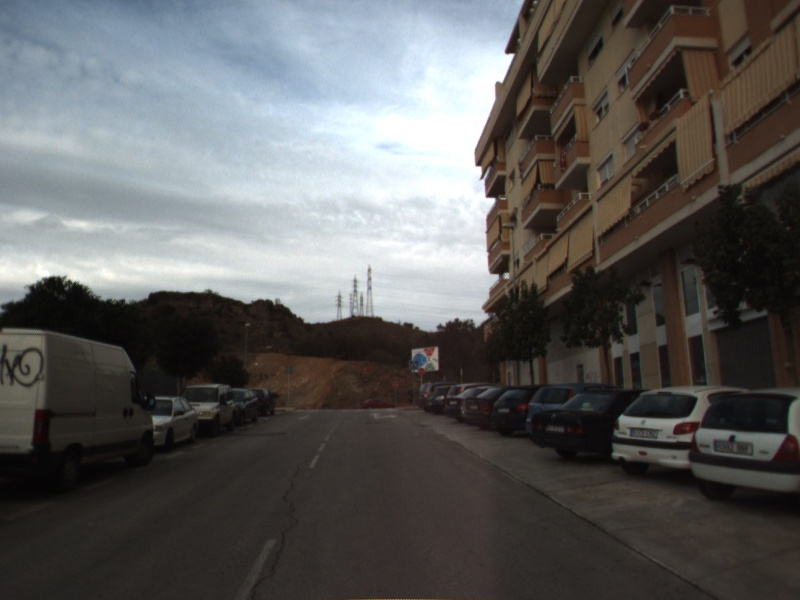STRAIGHT_RIGHT: (366, 410, 399, 421)
